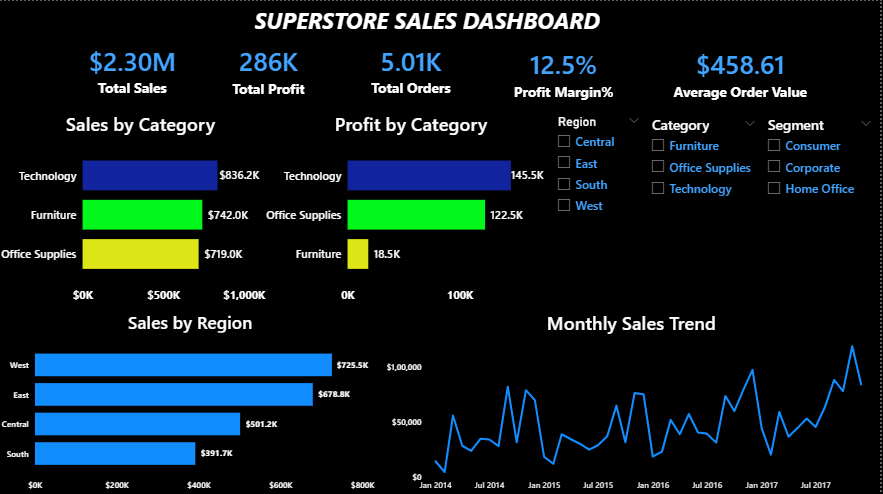

Layout of this report page (visuals, bound fields, positions):
{"tool":"powerbi","page":{"name":"Executive Overview Dashboard","canvas":[1280,720],"ordinal":0},"visuals":[{"type":"cardVisual","fields":{"Data":["Superstore Sales.Total Sales"]},"box":[96.5,44.6,198.7,109.4],"z":0},{"type":"cardVisual","fields":{"Data":["Superstore Sales.Total Orders"]},"box":[492.8,44.6,214.6,109.4],"z":1000},{"type":"cardVisual","fields":{"Data":["Superstore Sales.Average Order Value"]},"box":[936,44.6,282.2,119.5],"z":2000},{"type":"cardVisual","fields":{"Data":["Superstore Sales.Profit Margin%"]},"box":[702.2,44.6,239,121],"z":3000},{"type":"clusteredBarChart","title":"Sales by Category","fields":{"Category":["Superstore Sales.Category"],"Y":["Superstore Sales.Total Sales"]},"box":[0,160,416,288],"z":4000},{"type":"clusteredBarChart","title":"Sales by Region","fields":{"Category":["Superstore Sales.Region"],"Y":["Superstore Sales.Total Sales"]},"box":[0,448,560,272],"z":5000},{"type":"lineChart","title":"Monthly Sales Trend","fields":{"Category":["Superstore Sales.Order Date.Variation.Date Hierarchy.Year","Superstore Sales.Order Date.Variation.Date Hierarchy.Month"],"Y":["Superstore Sales.Total Sales"]},"box":[560,448,720,272],"z":6000},{"type":"slicer","fields":{"Values":["Superstore Sales.Region"]},"box":[800,160,144,192],"z":7000},{"type":"slicer","fields":{"Values":["Superstore Sales.Category"]},"box":[936,160,176,192],"z":8000},{"type":"slicer","fields":{"Values":["Superstore Sales.Segment"]},"box":[1104,160,176,192],"z":9000},{"type":"textbox","box":[368.6,0,614.9,64.8],"z":10000},{"type":"clusteredBarChart","title":"Profit by Category","fields":{"Category":["Superstore Sales.Category"],"Y":["Superstore Sales.Total Profit"]},"box":[384,160,432,288],"z":11000},{"type":"cardVisual","fields":{"Data":["Superstore Sales.Total Profit"]},"box":[290,44.6,208,112],"z":12000}]}

Visuals, with their boxes in screenshot pixels (x1, y1, x2, y2), scaled from the page's 1280x720 canvas onto the 883x494 screenshot:
cardVisual - Superstore Sales.Total Sales: Rect(67, 31, 204, 106)
cardVisual - Superstore Sales.Total Orders: Rect(340, 31, 488, 106)
cardVisual - Superstore Sales.Average Order Value: Rect(646, 31, 840, 113)
cardVisual - Superstore Sales.Profit Margin%: Rect(484, 31, 649, 114)
"Sales by Category" clusteredBarChart: Rect(0, 110, 287, 307)
"Sales by Region" clusteredBarChart: Rect(0, 307, 386, 493)
"Monthly Sales Trend" lineChart: Rect(386, 307, 882, 493)
slicer - Superstore Sales.Region: Rect(552, 110, 651, 242)
slicer - Superstore Sales.Category: Rect(646, 110, 767, 242)
slicer - Superstore Sales.Segment: Rect(762, 110, 882, 242)
textbox: Rect(254, 0, 678, 44)
"Profit by Category" clusteredBarChart: Rect(265, 110, 563, 307)
cardVisual - Superstore Sales.Total Profit: Rect(200, 31, 344, 107)
